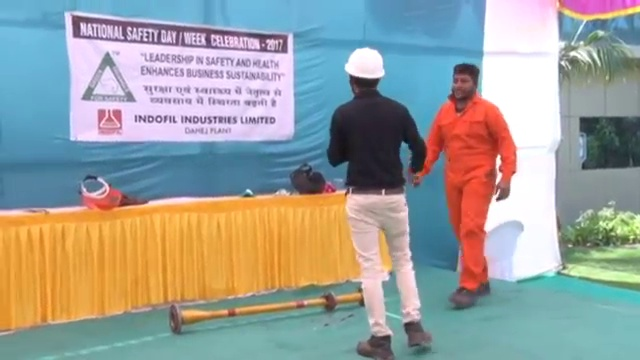helmet: (343, 46, 387, 80)
helmet_off: (450, 62, 478, 100)
helmet_on: (341, 47, 388, 94)
person: (322, 45, 436, 355), (412, 61, 517, 307)
